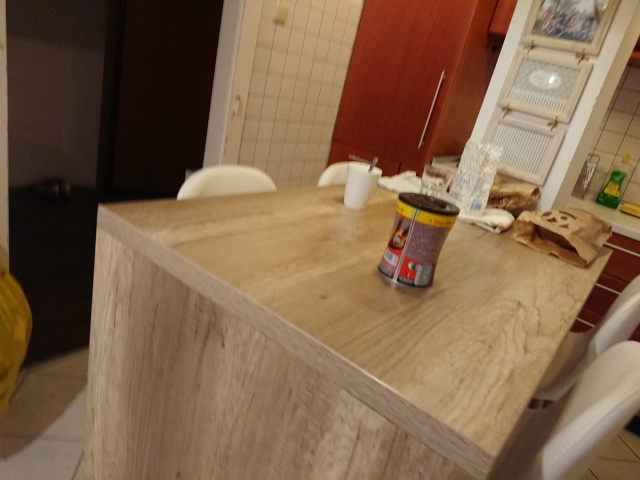Nescafe Classic 225g: (374, 190, 463, 291)
